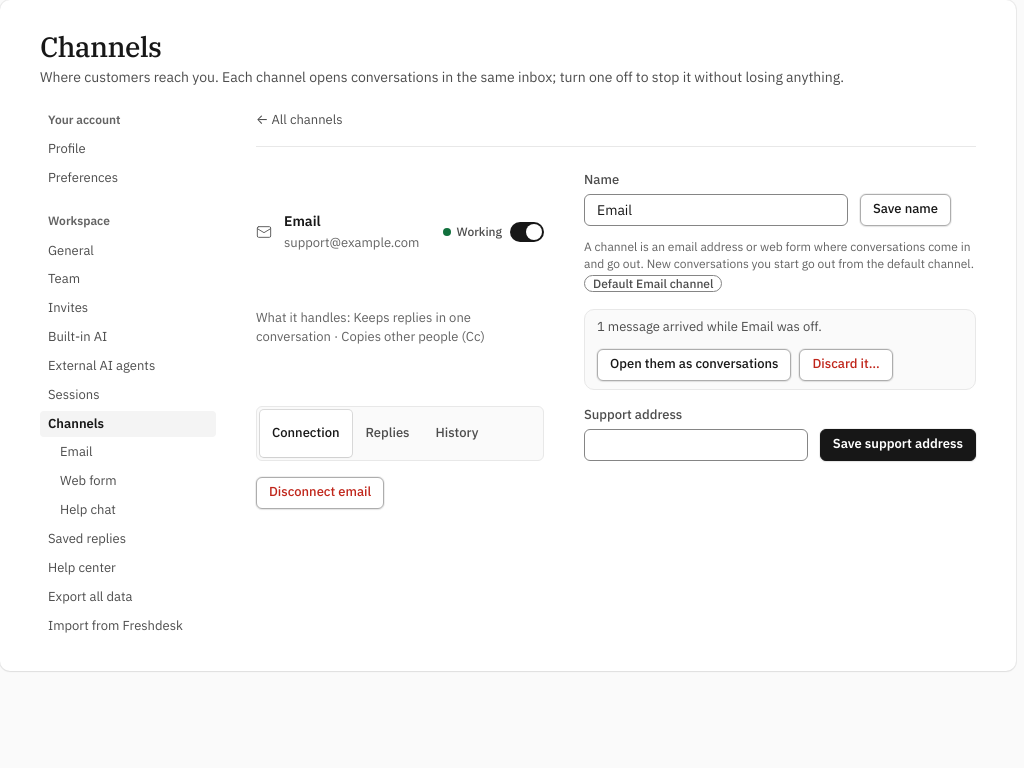
Test: disconnecting email asks in a dialog that names the address, and is refused up front while mail is held
Click the button "Disconnect email" at coordinates (320, 492), box [256, 476, 384, 508]
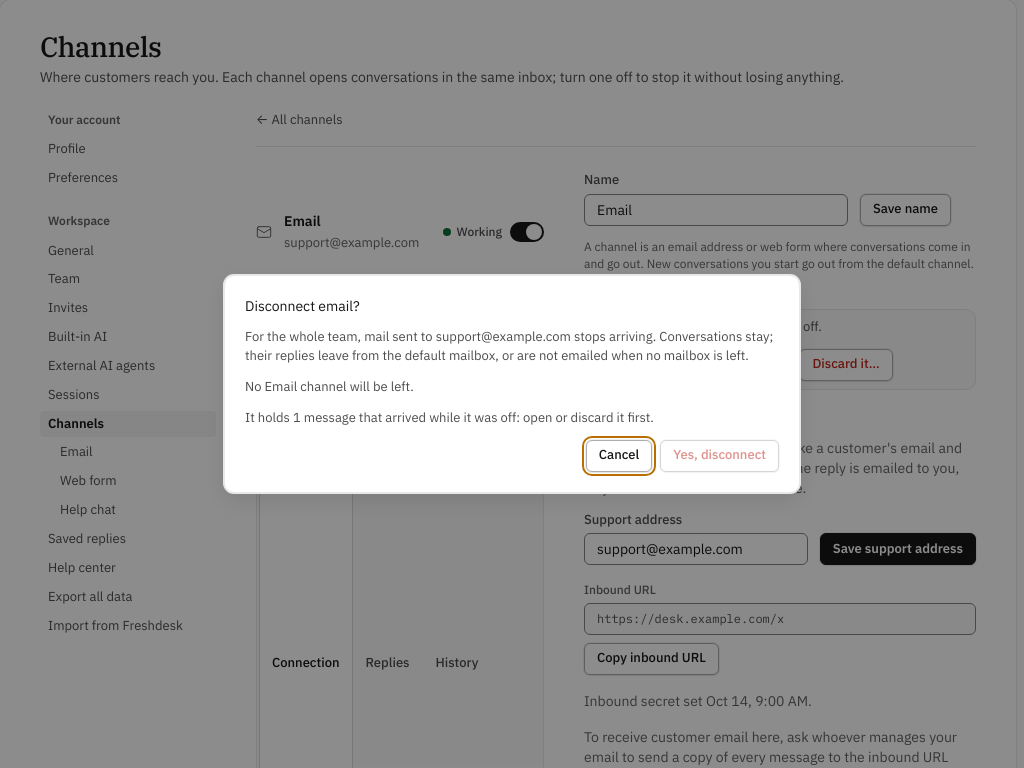
Expected: the dialog "Disconnect email?" shows "support@example.com", [245, 328, 773, 364]
Expected: the message reads "It holds 1 message that arrived while it was off: open or discard it first.", [245, 409, 654, 426]
Expected: the button "Yes, disconnect" is disabled, [660, 440, 779, 472]
